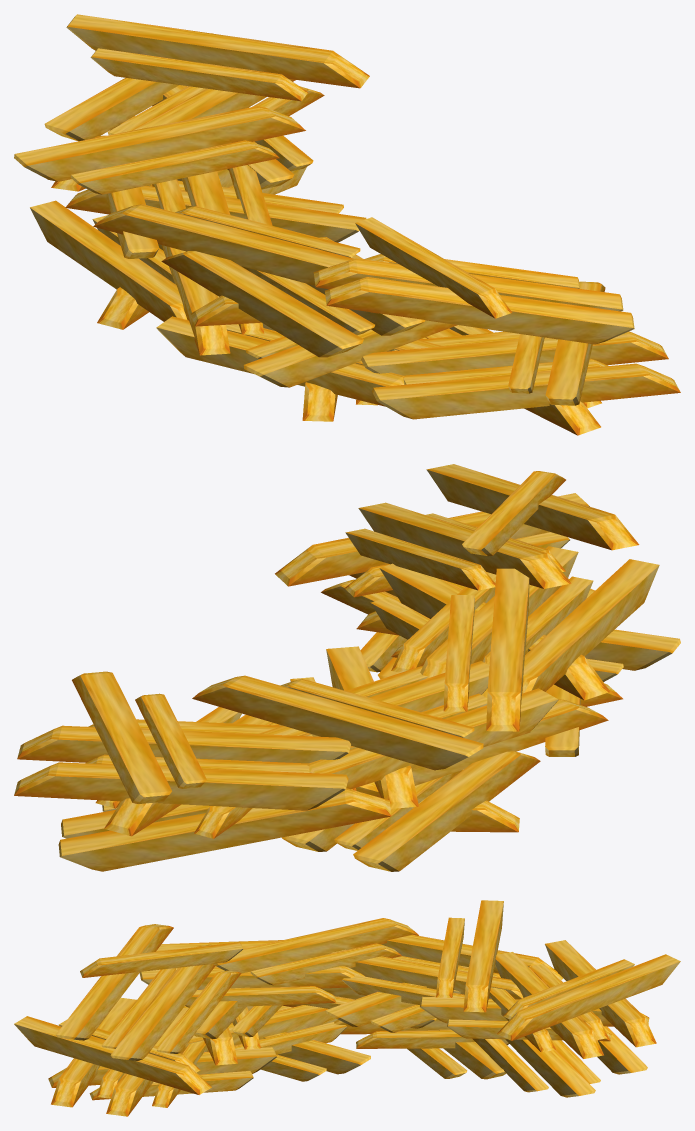
Rendered from patatas.fbx.
The picture shows the model from 3 angles, top to bottom: view 1: azimuth 30°, elevation 25°; view 2: azimuth 150°, elevation 25°; view 3: azimuth 270°, elevation 25°; orthographic projection. The views are drawn at different scales.
Visible parts, largest first — view 1: Cylinder.013; view 2: Cylinder.013; view 3: Cylinder.013.
Boxes of the visible parts, x1=… form: Cylinder.013: x1=14, y1=14, x2=680, y2=435; Cylinder.013: x1=14, y1=464, x2=680, y2=871; Cylinder.013: x1=14, y1=900, x2=680, y2=1116.
Size of the model in its own units: 194 by 70.62 by 385.
